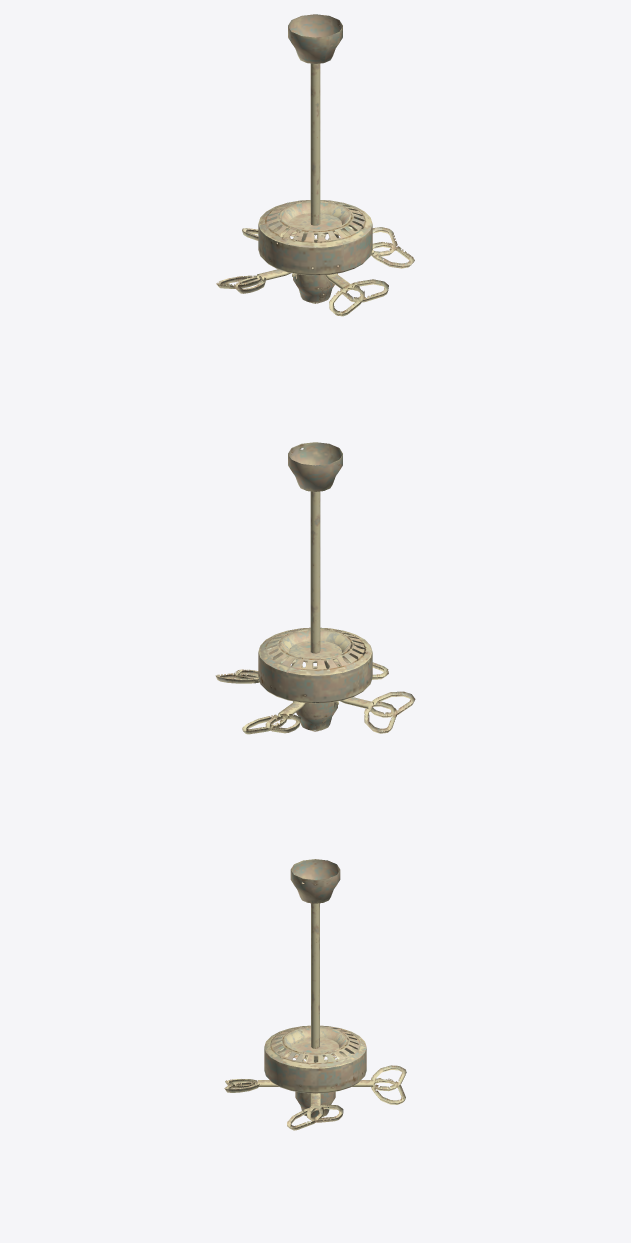
File: 049_CeilingFans.fbx
3 renders of one model, top to bottom at view 1: azimuth 30°, elevation 25°; view 2: azimuth 150°, elevation 25°; view 3: azimuth 270°, elevation 25°, orthographic. The views are drawn at different scales.
Parts seen in each view (by area): view 1: LOD_1_Group_1_Sub_1__sm31_049_CeilingFans01A_C_Mat, LOD_1_Group_0_Sub_1__sm31_049_CeilingFans01A_C_Mat; view 2: LOD_1_Group_1_Sub_1__sm31_049_CeilingFans01A_C_Mat, LOD_1_Group_0_Sub_1__sm31_049_CeilingFans01A_C_Mat; view 3: LOD_1_Group_1_Sub_1__sm31_049_CeilingFans01A_C_Mat, LOD_1_Group_0_Sub_1__sm31_049_CeilingFans01A_C_Mat.
Part boxes in pixels (x1=…): LOD_1_Group_1_Sub_1__sm31_049_CeilingFans01A_C_Mat: x1=216, y1=200, x2=414, y2=316; LOD_1_Group_0_Sub_1__sm31_049_CeilingFans01A_C_Mat: x1=288, y1=14, x2=342, y2=303; LOD_1_Group_1_Sub_1__sm31_049_CeilingFans01A_C_Mat: x1=215, y1=627, x2=415, y2=734; LOD_1_Group_0_Sub_1__sm31_049_CeilingFans01A_C_Mat: x1=288, y1=442, x2=342, y2=731; LOD_1_Group_1_Sub_1__sm31_049_CeilingFans01A_C_Mat: x1=224, y1=1025, x2=406, y2=1130; LOD_1_Group_0_Sub_1__sm31_049_CeilingFans01A_C_Mat: x1=290, y1=859, x2=340, y2=1117.
Size of the model in its own units: 2.09 by 0.9502 by 2.09.
